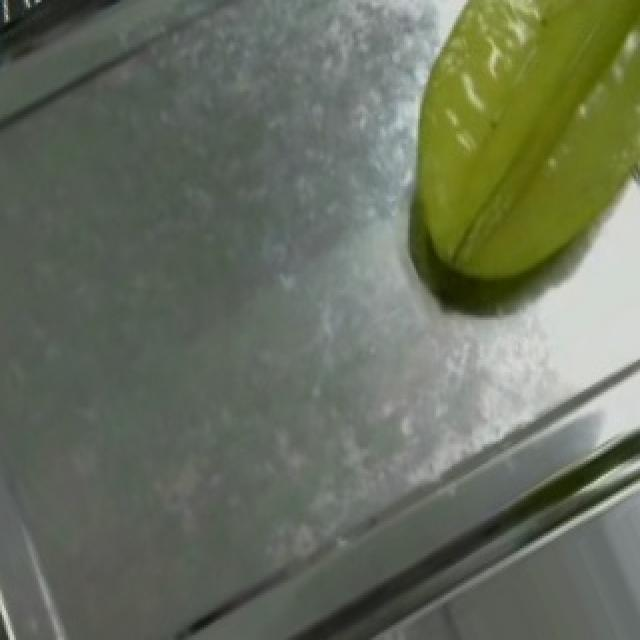fruit: (360, 0, 640, 325)
